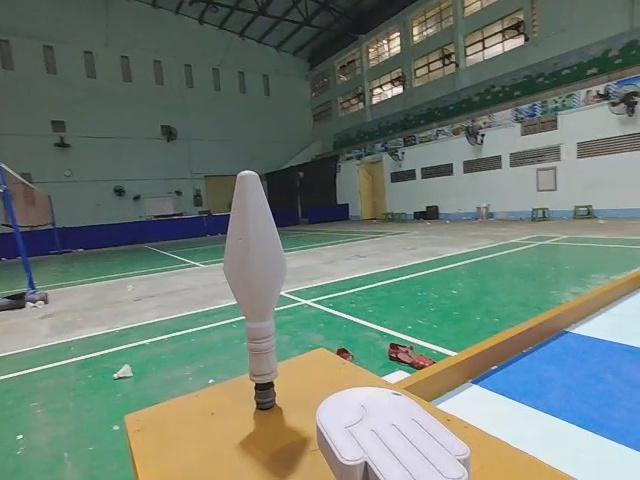Hand: (312, 384, 476, 480)
Sph: (215, 170, 285, 417)
